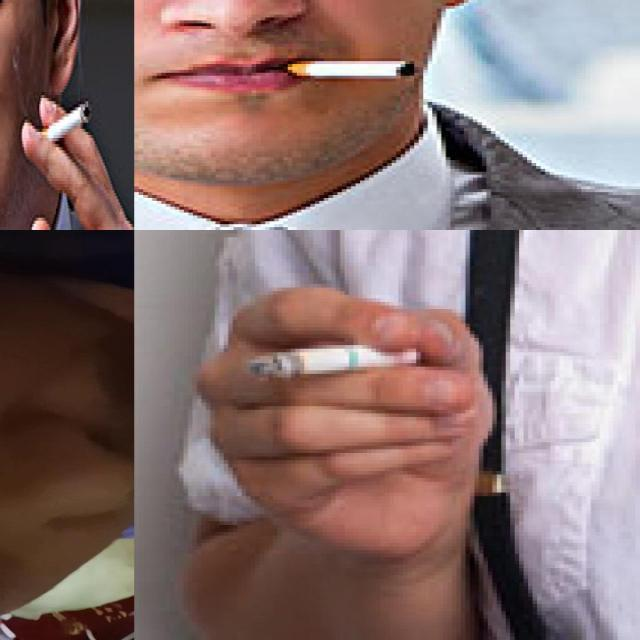smoking: (232, 338, 430, 378), (283, 55, 415, 79), (32, 99, 92, 147)
